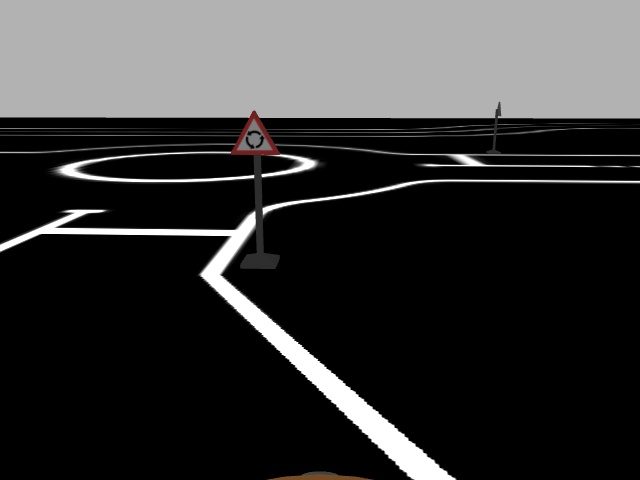roundabout: (229, 109, 280, 155)
